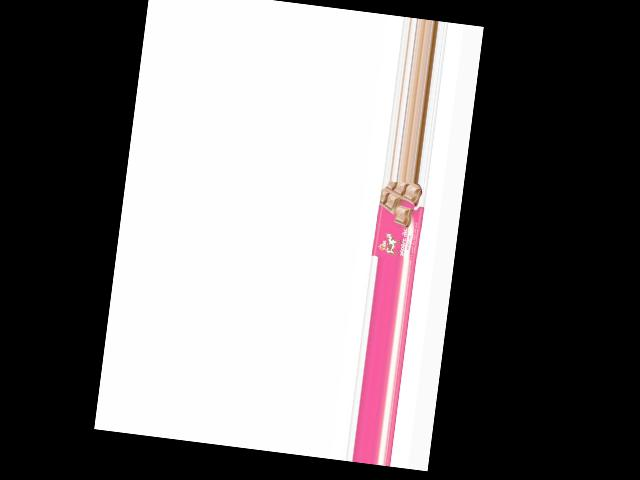chocolate: (372, 179, 427, 263)
